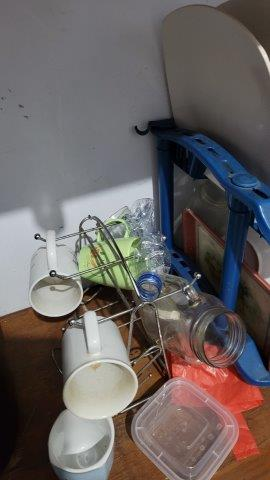botolplastik: (119, 195, 174, 303)
